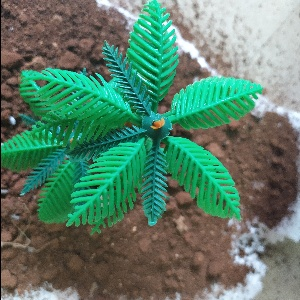plant: (1, 1, 264, 237)
